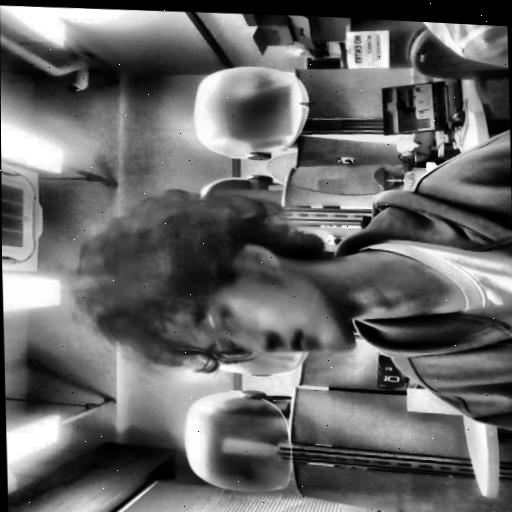Daifuku: (79, 179, 354, 371)
